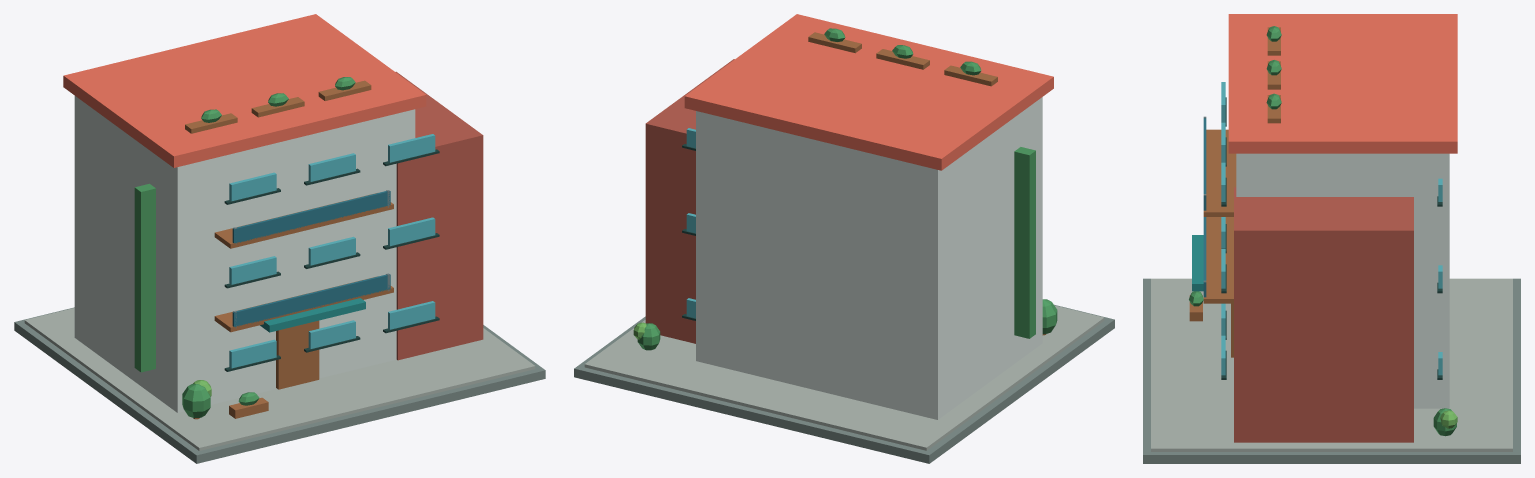
Rendered from house_lv5.glb.
3 renders of one model, left to right at view 1: azimuth 30°, elevation 25°; view 2: azimuth 150°, elevation 25°; view 3: azimuth 270°, elevation 25°, orthographic. The views are drawn at different scales.
Parts seen in each view (by area): view 1: white, coral, brick, concrete, glass, pavement, wood, green, glassDark, dark, teal; view 2: white, coral, concrete, brick, pavement, green, wood, glass; view 3: brick, coral, concrete, white, pavement, wood, glass, green, glassDark, teal, dark.
Part boxes in pixels (bbox=[...]): white: bbox=[74, 96, 415, 412]; coral: bbox=[63, 14, 426, 167]; brick: bbox=[395, 71, 483, 360]; concrete: bbox=[24, 308, 535, 450]; glass: bbox=[229, 134, 435, 368]; pavement: bbox=[14, 307, 545, 463]; wood: bbox=[185, 80, 393, 419]; green: bbox=[134, 77, 355, 417]; glassDark: bbox=[232, 191, 390, 327]; dark: bbox=[224, 149, 439, 371]; teal: bbox=[260, 298, 365, 332]; white: bbox=[696, 97, 1042, 419]; coral: bbox=[684, 14, 1053, 170]; concrete: bbox=[584, 305, 1104, 450]; brick: bbox=[645, 59, 734, 343]; pavement: bbox=[574, 304, 1114, 463]; green: bbox=[637, 28, 1057, 350]; wood: bbox=[808, 32, 1046, 335]; glass: bbox=[686, 128, 695, 318]; brick: bbox=[1234, 187, 1413, 442]; coral: bbox=[1228, 14, 1457, 153]; concrete: bbox=[1151, 278, 1512, 451]; white: bbox=[1236, 153, 1449, 408]; pavement: bbox=[1143, 278, 1520, 463]; wood: bbox=[1189, 27, 1280, 357]; glass: bbox=[1221, 82, 1442, 375]; green: bbox=[1189, 26, 1456, 436]; glassDark: bbox=[1203, 118, 1206, 297]; teal: bbox=[1192, 235, 1203, 291]; dark: bbox=[1221, 97, 1442, 379].
Bounding box in the file's own units: 9.4 × 7.42 × 8.5.
